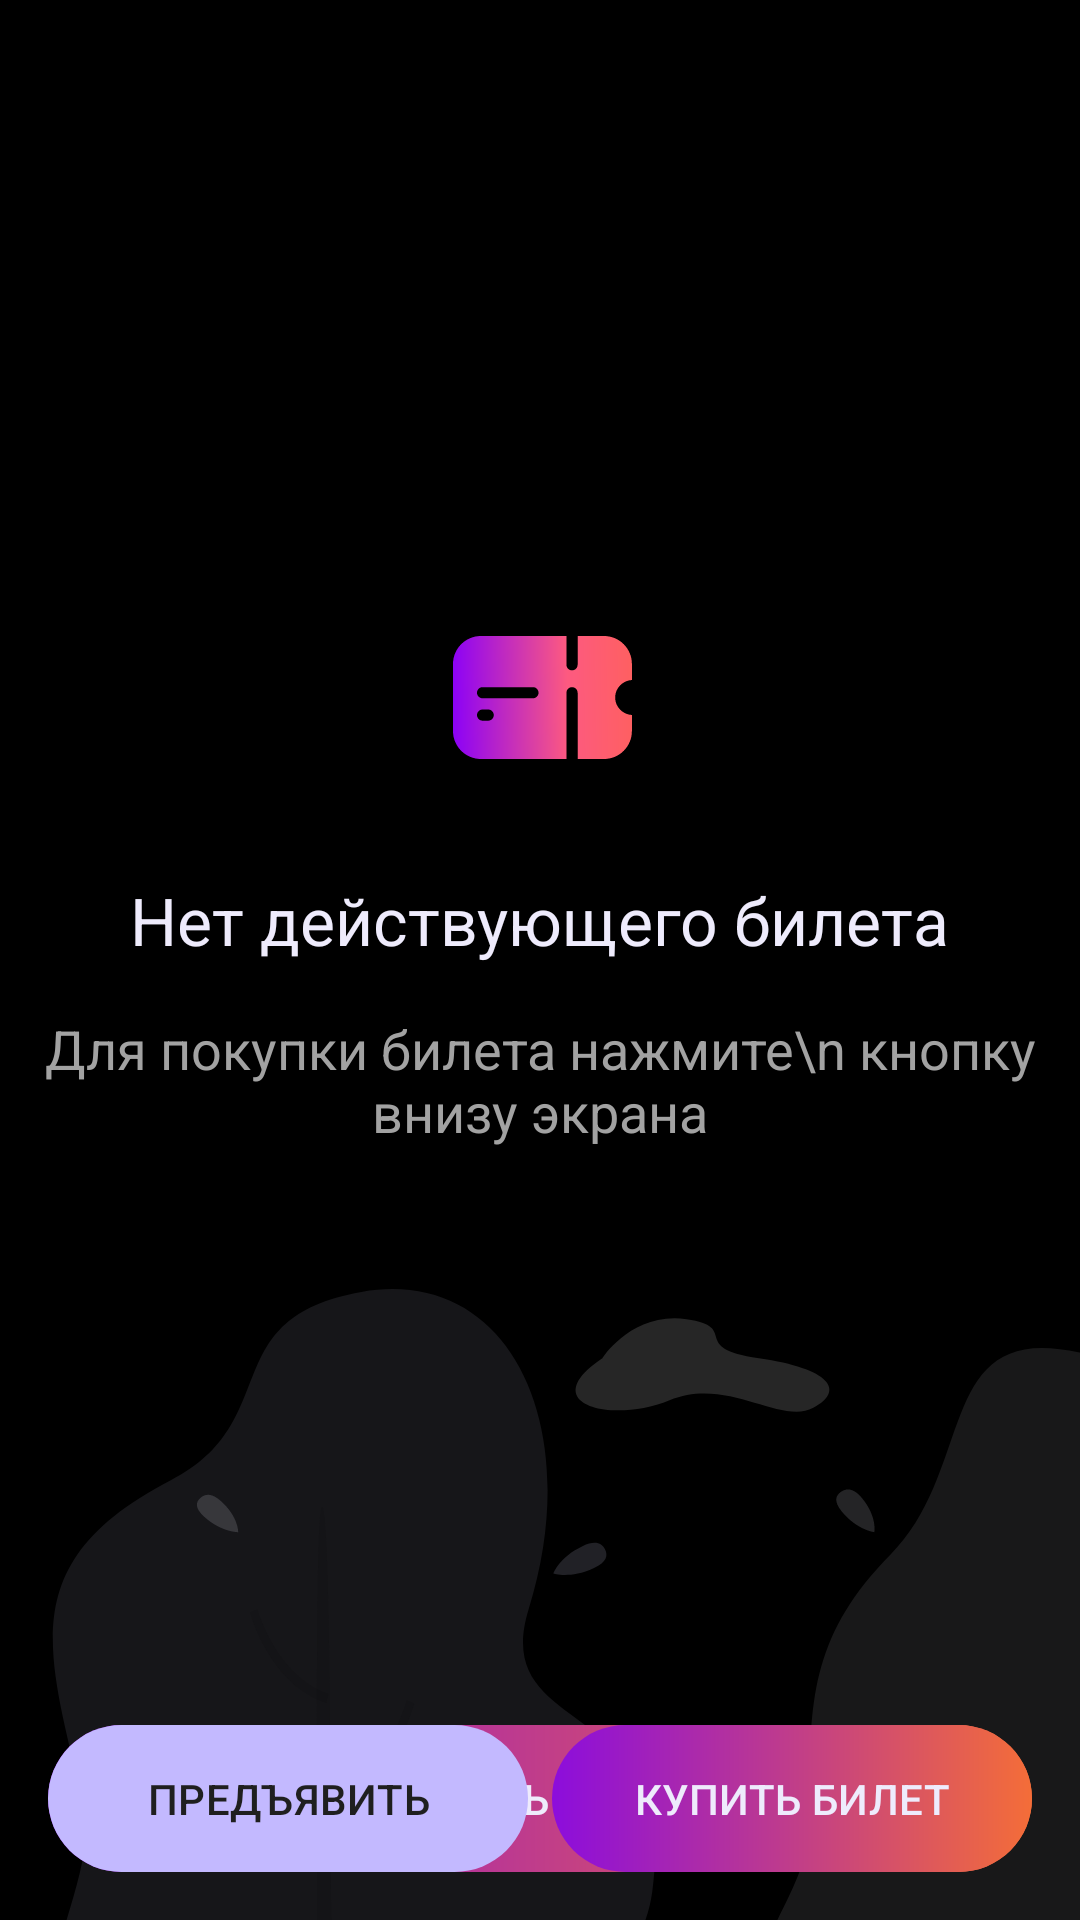

Named icons in this screenshot (1080x1920) and their bounding boxes, Rect(x1, y1, x2, y2):
no ticket: Rect(453, 636, 632, 759)
